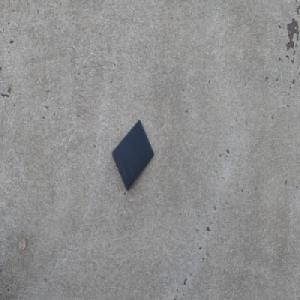PlasticPart: (111, 119, 154, 192)
